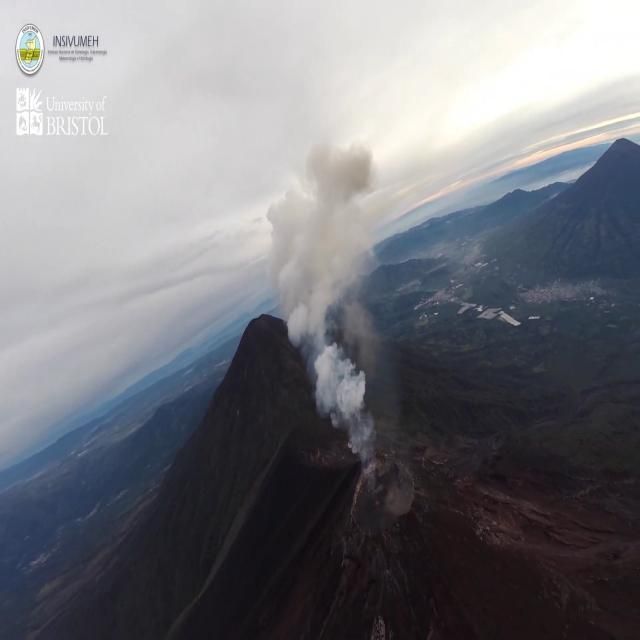Plume: (265, 138, 385, 462)
Summit: (310, 448, 473, 590)
